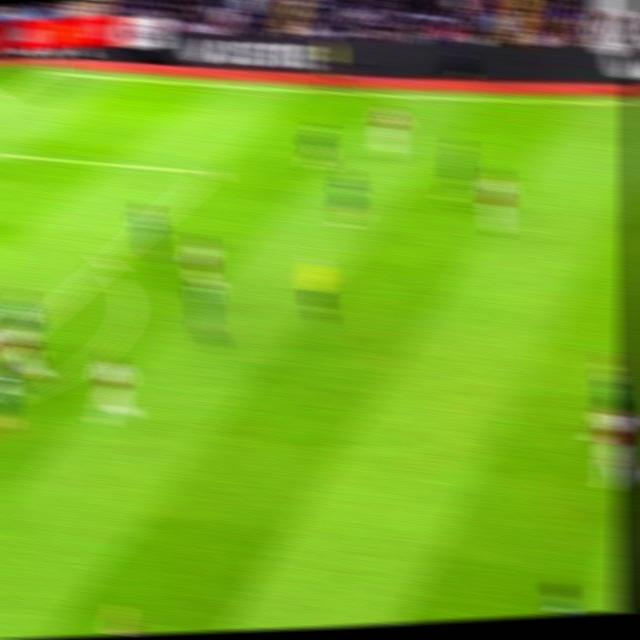bigarea_top_inner: (195, 159, 225, 186)
corner: (31, 60, 63, 85)
top_arc_area_intersection: (88, 254, 122, 282)
